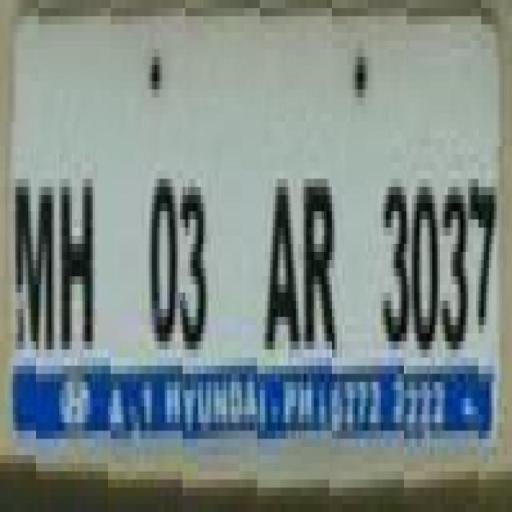number plate: (4, 0, 511, 398)
